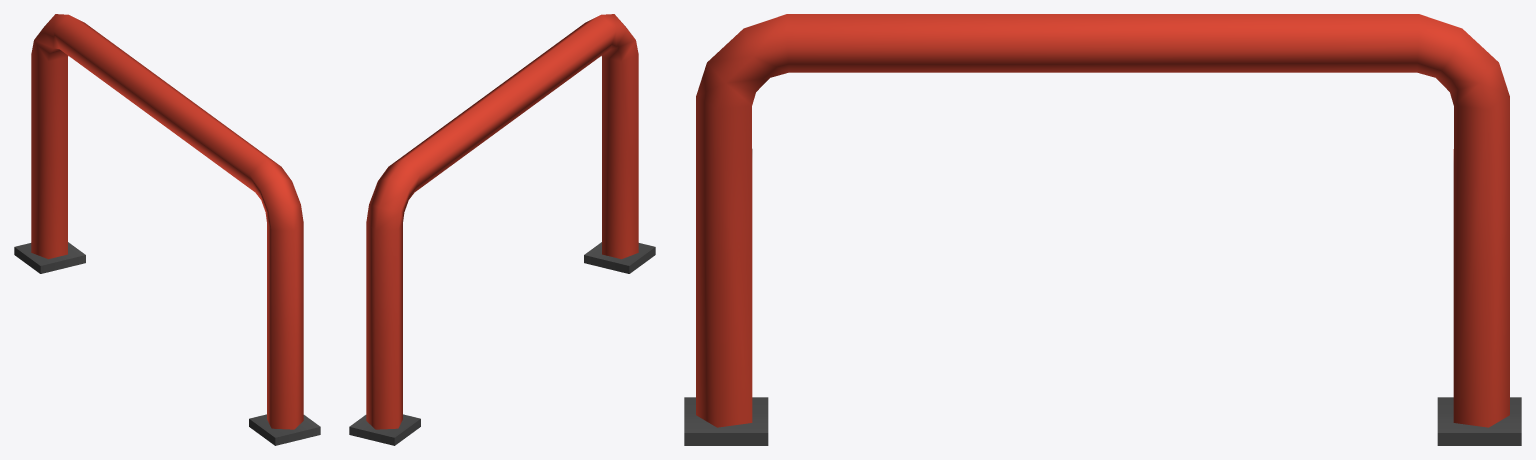
File: Bollards_1_C.fbx
The picture shows the model from 3 angles, left to right: view 1: azimuth 30°, elevation 25°; view 2: azimuth 150°, elevation 25°; view 3: azimuth 270°, elevation 25°; orthographic projection. The views are drawn at different scales.
Parts seen in each view (by area): view 1: Bollards_1_C; view 2: Bollards_1_C; view 3: Bollards_1_C.
Part boxes in pixels (x1,y1,x2,y2): Bollards_1_C: [14, 14, 320, 445]; Bollards_1_C: [349, 14, 655, 445]; Bollards_1_C: [684, 14, 1521, 445].
Bounding box in the file's own units: 15.3 × 83.2 × 152.
